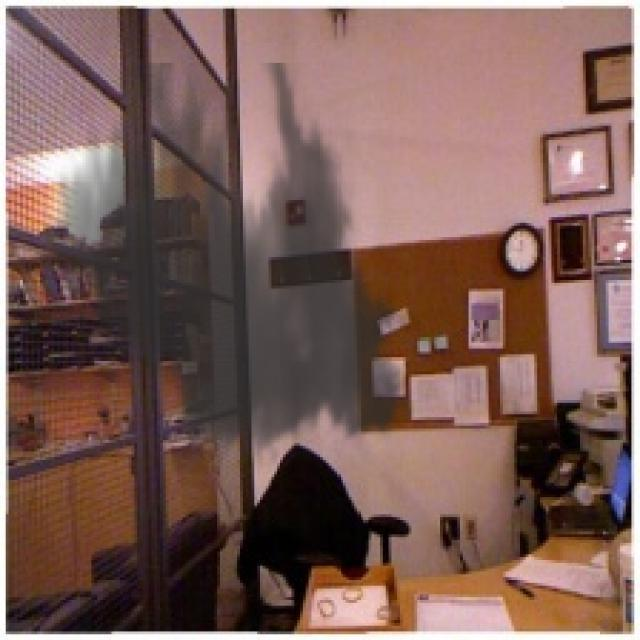Smoke: (37, 62, 423, 474)
